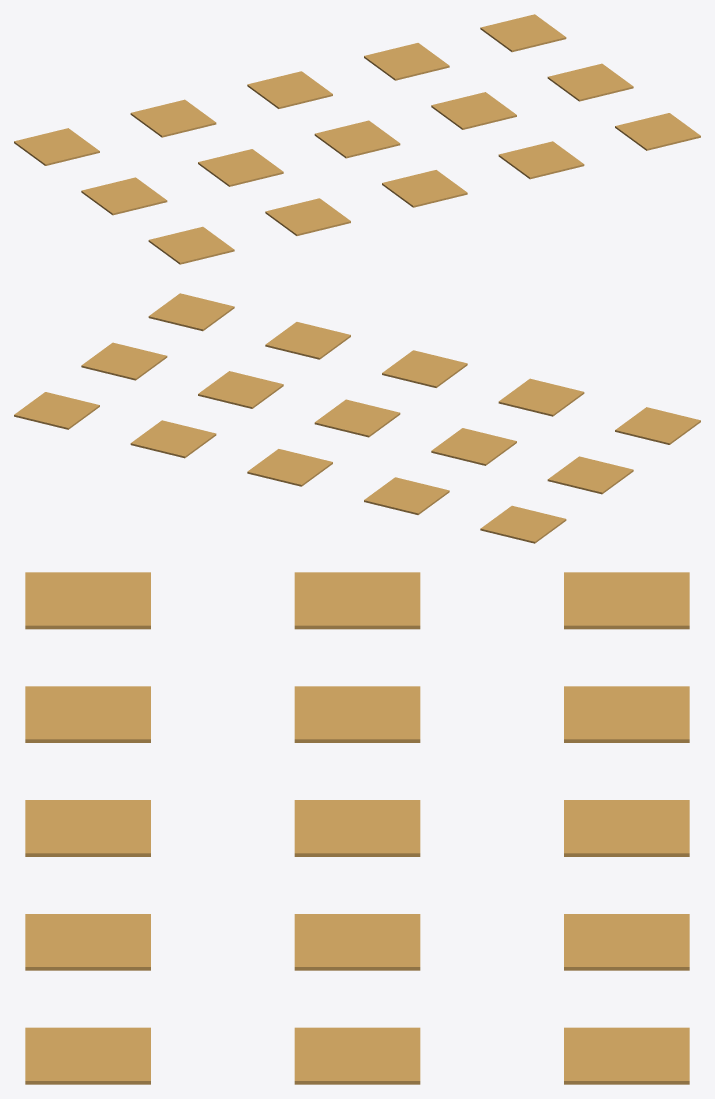
File: 60_L97_ENIG_Pad_Grid.fbx
The picture shows the model from 3 angles, top to bottom: view 1: azimuth 30°, elevation 25°; view 2: azimuth 150°, elevation 25°; view 3: azimuth 270°, elevation 25°; orthographic projection. The views are drawn at different scales.
Visible parts, largest first — view 1: Pad_21, Pad_02, Pad_10, Pad_32, Pad_40, Pad_01, Pad_11, Pad_31, Pad_41, Pad_00, Pad_12, Pad_30 (+3 smaller); view 2: Pad_21, Pad_00, Pad_12, Pad_30, Pad_42, Pad_01, Pad_11, Pad_31, Pad_41, Pad_02, Pad_10, Pad_32 (+3 smaller); view 3: Pad_01, Pad_41, Pad_00, Pad_02, Pad_40, Pad_42, Pad_11, Pad_21, Pad_31, Pad_10, Pad_12, Pad_20 (+3 smaller).
Part boxes in pixels (box(x1,y1,x2,y2)): Pad_21: box(314, 120, 400, 158); Pad_02: box(148, 226, 234, 264); Pad_10: box(130, 99, 216, 137); Pad_32: box(498, 141, 584, 179); Pad_40: box(480, 14, 566, 52); Pad_01: box(81, 177, 167, 215); Pad_11: box(198, 149, 283, 186); Pad_31: box(431, 92, 516, 129); Pad_41: box(547, 63, 633, 101); Pad_00: box(14, 128, 99, 165); Pad_12: box(265, 198, 350, 235); Pad_30: box(364, 43, 449, 80); Pad_21: box(314, 399, 400, 437); Pad_00: box(480, 505, 566, 543); Pad_12: box(498, 378, 584, 416); Pad_30: box(130, 420, 216, 458); Pad_42: box(148, 293, 234, 331); Pad_01: box(547, 456, 633, 494); Pad_11: box(431, 428, 516, 465); Pad_31: box(198, 371, 283, 408); Pad_41: box(81, 342, 167, 380); Pad_02: box(615, 407, 700, 444); Pad_10: box(364, 477, 449, 514); Pad_32: box(265, 322, 350, 359); Pad_01: box(294, 572, 420, 629); Pad_41: box(294, 1027, 420, 1084); Pad_00: box(564, 572, 689, 629); Pad_02: box(25, 572, 150, 629); Pad_40: box(564, 1027, 689, 1084); Pad_42: box(25, 1027, 150, 1084); Pad_11: box(294, 686, 420, 742); Pad_21: box(294, 800, 420, 856); Pad_31: box(294, 914, 420, 970); Pad_10: box(564, 686, 689, 742); Pad_12: box(25, 686, 150, 742); Pad_20: box(564, 800, 689, 856).
Size of the model in its own units: 0.0134 by 4.5e-05 by 0.0074.
